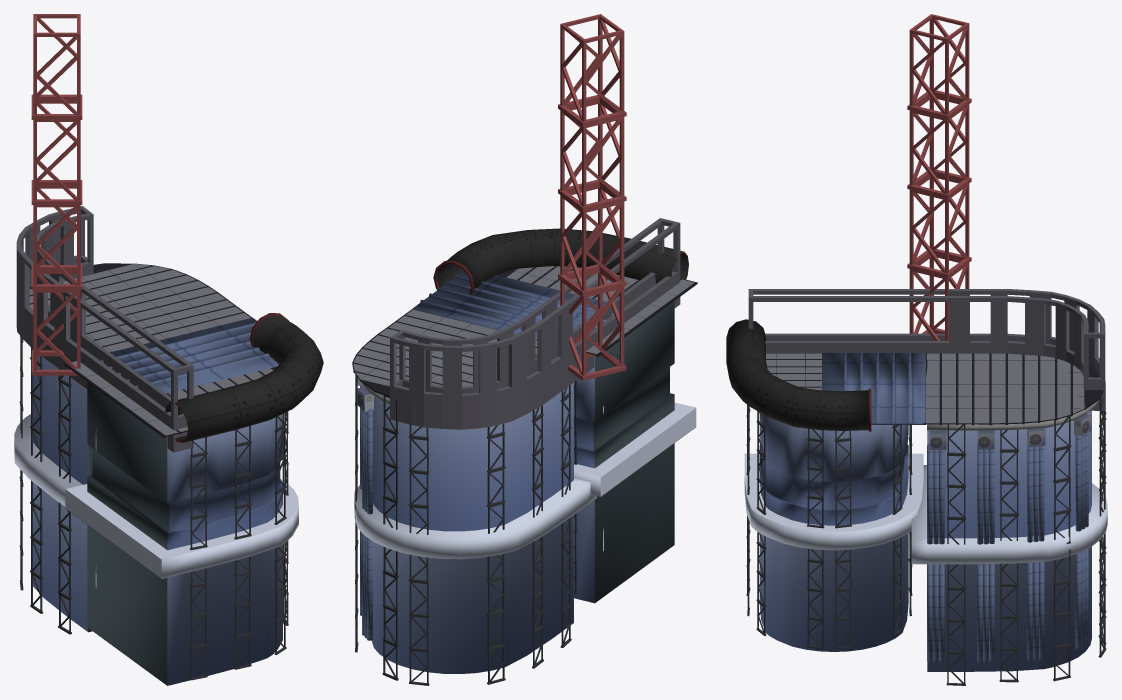
The model's file is Steps1.fbx.
The picture shows the model from 3 angles, left to right: view 1: azimuth 30°, elevation 25°; view 2: azimuth 150°, elevation 25°; view 3: azimuth 270°, elevation 25°; orthographic projection. The views are drawn at different scales.
Visible parts, largest first — view 1: Plane.001; view 2: Plane.001; view 3: Plane.001, Plane.002.
Boxes of the visible parts, x1,y1,x2,y2 form: Plane.001: (14, 14, 323, 685); Plane.001: (352, 14, 697, 685); Plane.001: (726, 14, 1107, 685); Plane.002: (929, 414, 1091, 449).
Bounding box in the file's own units: 1455 × 3790 × 2280.
